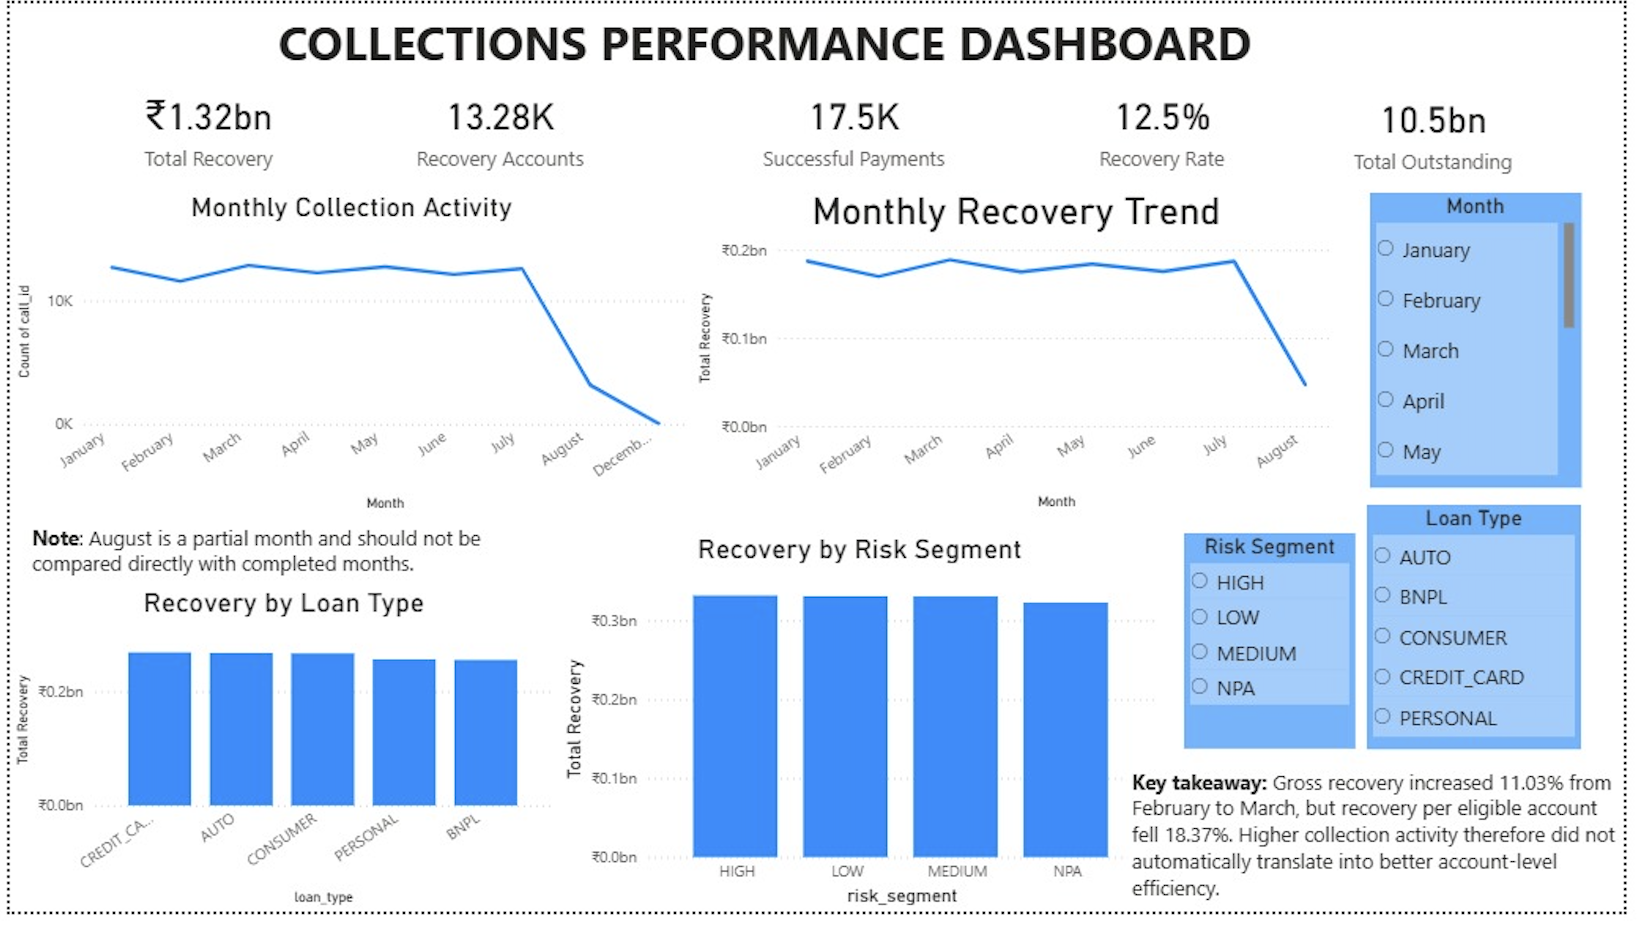

The page's visual inventory and layout, read from the dashboard file:
{"tool":"powerbi","page":{"name":"Page 1","canvas":[1280,720],"ordinal":0},"visuals":[{"type":"card","title":"Collection Performance Dashboard","fields":{"Values":["golden_accounts.Total Recovery"]},"box":[1.2,48.8,312.5,98.8],"z":0},{"type":"card","fields":{"Values":["golden_accounts.Recovery Rate"]},"box":[762.5,48.8,302.5,98.8],"z":1000},{"type":"card","fields":{"Values":["golden_accounts.Total Outstanding"]},"box":[977.5,51.2,302.5,98.8],"z":2000},{"type":"card","fields":{"Values":["golden_accounts.Successful Payments"]},"box":[518.8,48.8,301.2,98.8],"z":3000},{"type":"card","fields":{"Values":["golden_accounts.Recovery Accounts"]},"box":[237.5,48.8,302.5,98.8],"z":4000},{"type":"lineChart","title":"Monthly Recovery Trend","fields":{"Y":["golden_accounts.Total Recovery"],"Category":["golden_payments.event_at.Variation.Date Hierarchy.Month"]},"box":[541.2,147.5,513.8,258.8],"z":5000},{"type":"lineClusteredColumnComboChart","title":"Recovery by Risk Segment","fields":{"Category":["golden_accounts.risk_segment"],"Y":["golden_accounts.Total Recovery"]},"box":[435,420,478.8,300],"z":6000},{"type":"lineClusteredColumnComboChart","title":"Recovery by Loan Type","fields":{"Category":["golden_accounts.loan_type"],"Y":["golden_accounts.Total Recovery"]},"box":[0,462.5,435,257.5],"z":7000},{"type":"lineChart","title":"Monthly Collection Activity","fields":{"Category":["golden_calls.event_at_utc.Variation.Date Hierarchy.Month"],"Y":["CountNonNull(golden_calls.call_id)"]},"box":[1.2,148.8,540,258.8],"z":8000},{"type":"textbox","box":[885,601.2,395,118.8],"z":9000},{"type":"textbox","box":[12.5,407.5,410,55],"z":10000},{"type":"listSlicer","title":"Risk Segment","fields":{"Values":["golden_accounts.risk_segment"]},"box":[931.2,420,136.2,171.2],"z":11000},{"type":"listSlicer","title":"Loan Type","fields":{"Values":["golden_accounts.loan_type"]},"box":[1076.2,397.5,170,193.8],"z":11001},{"type":"listSlicer","fields":{"Values":["golden_payments.event_at.Variation.Date Hierarchy.Month"]},"box":[1078.8,150,167.5,233.8],"z":11002},{"type":"textbox","box":[132.5,0,932.5,65],"z":11003}]}

Visuals, with their boxes in screenshot pixels (x1, y1, x2, y2), scaled from the page's 1280x720 canvas onto the 1648x925 screenshot:
"Collection Performance Dashboard" card: region(2, 63, 404, 190)
card - golden_accounts.Recovery Rate: region(982, 63, 1371, 190)
card - golden_accounts.Total Outstanding: region(1259, 66, 1647, 193)
card - golden_accounts.Successful Payments: region(668, 63, 1056, 190)
card - golden_accounts.Recovery Accounts: region(306, 63, 695, 190)
"Monthly Recovery Trend" lineChart: region(697, 189, 1358, 522)
"Recovery by Risk Segment" lineClusteredColumnComboChart: region(560, 540, 1177, 924)
"Recovery by Loan Type" lineClusteredColumnComboChart: region(0, 594, 560, 924)
"Monthly Collection Activity" lineChart: region(2, 191, 697, 524)
textbox: region(1139, 772, 1647, 924)
textbox: region(16, 524, 544, 594)
"Risk Segment" listSlicer: region(1199, 540, 1374, 760)
"Loan Type" listSlicer: region(1386, 511, 1604, 760)
listSlicer - golden_payments.event_at.Variation.Date Hierarchy.Month: region(1389, 193, 1605, 493)
textbox: region(171, 0, 1371, 84)
